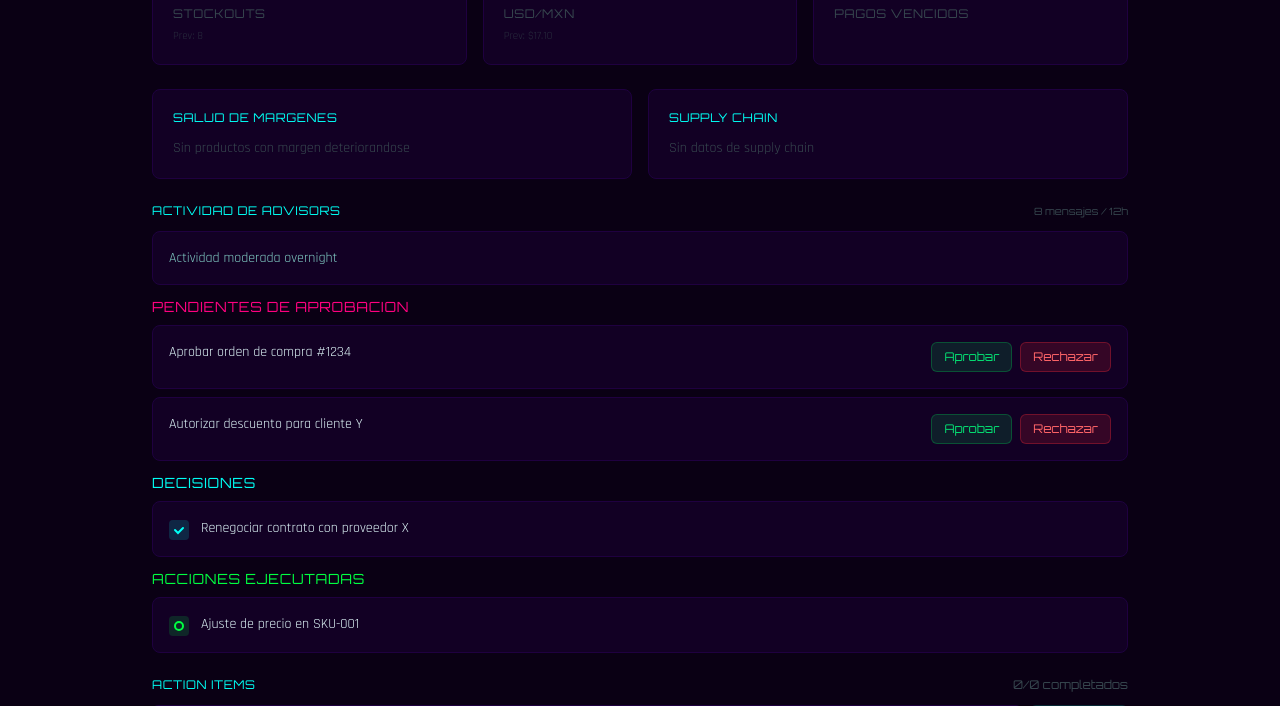
Test: PulseDashboardPage › approve button changes state to Aprobado
(page scrolled)
Click the button with test id "approve-btn": (972, 357) [932, 342, 1012, 372]
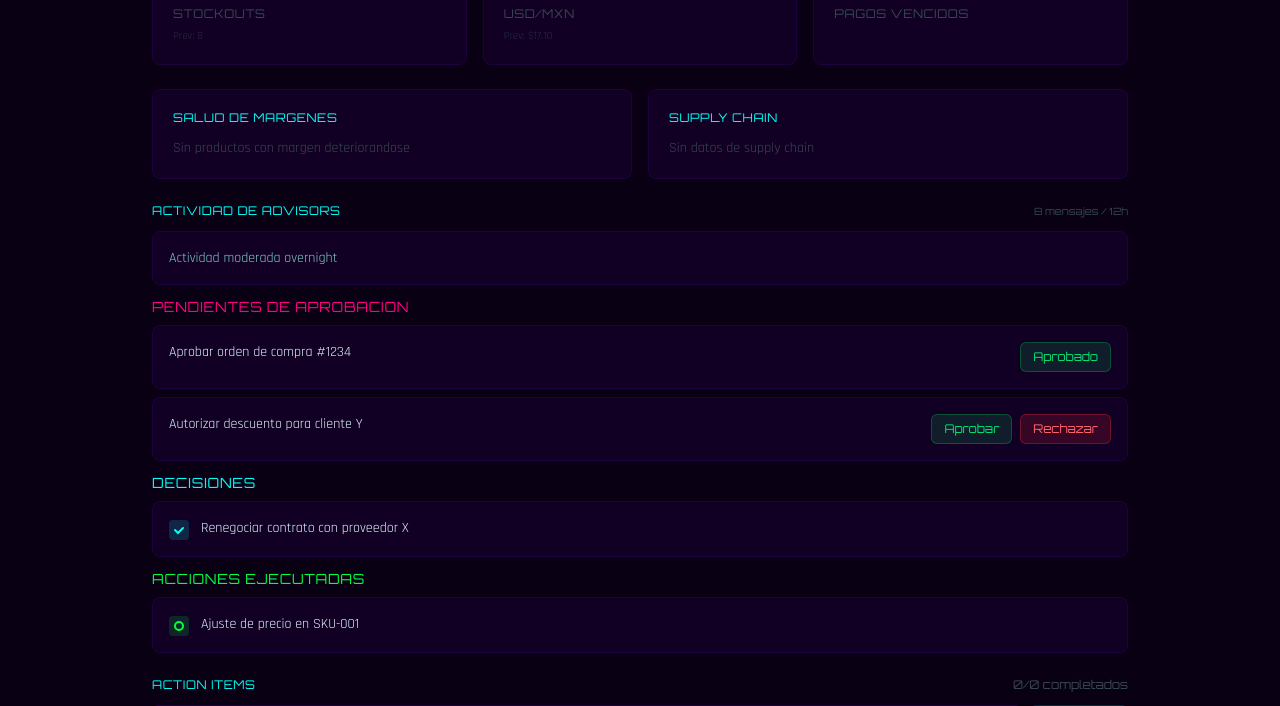
Expected: the text "Aprobado" is shown, [1020, 342, 1111, 372]
